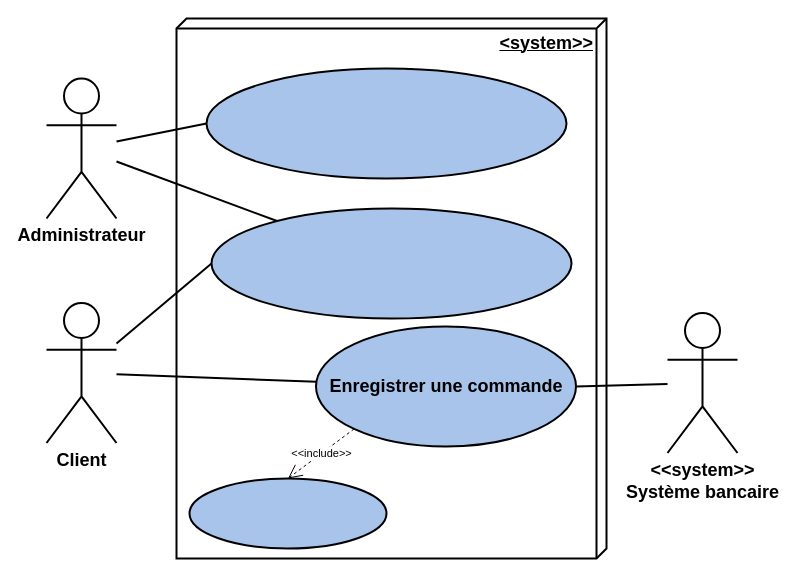
Some shapes in this 796 by 576 pixel diagram are drawn without their labels. The shapes that lost their labels are listed below. From the top down, each one's centre as x and y in pixels, then its label:
At (386,123): "Mettre à jour le catalogue des propositions".
At (391,263): "Consulter le catalogue des propositions".
At (287,513): "Constituer le panier".
